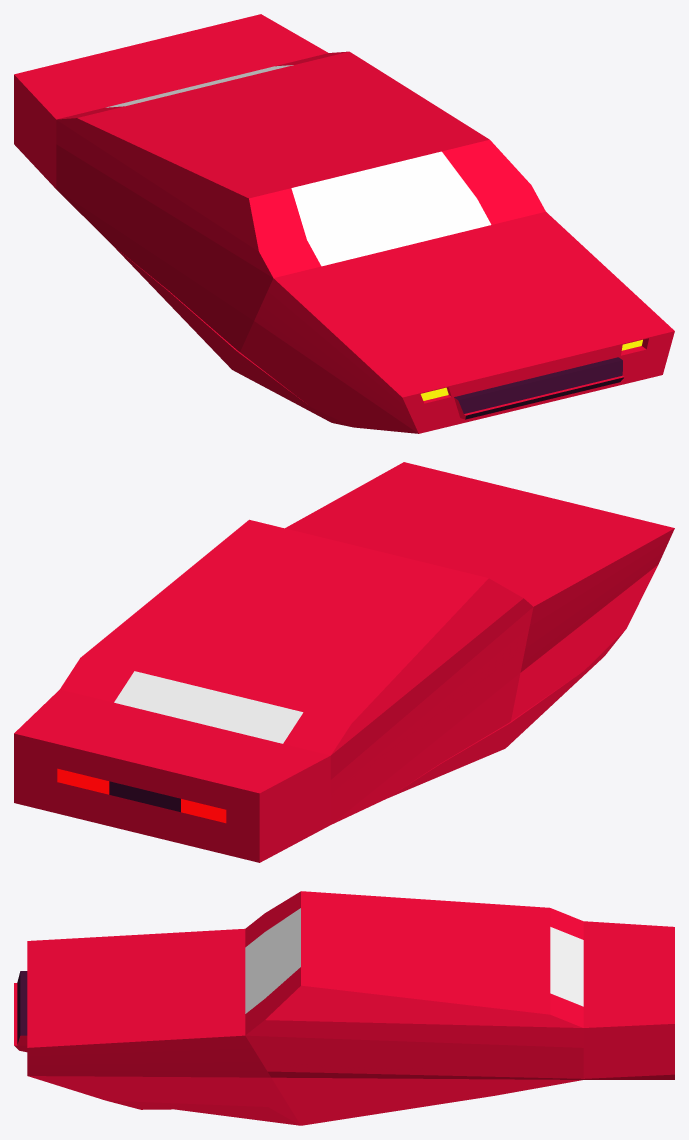
Rendered from car.glb.
3 renders of one model, top to bottom at view 1: azimuth 30°, elevation 25°; view 2: azimuth 150°, elevation 25°; view 3: azimuth 270°, elevation 25°, orthographic. The views are drawn at different scales.
Parts seen in each view (by area): view 1: Cube; view 2: Cube; view 3: Cube.
Part boxes in pixels (x1,y1,x2,y2): Cube: [14, 14, 674, 433]; Cube: [14, 462, 674, 862]; Cube: [14, 891, 674, 1125].
Bounding box in the file's own units: 3.81 × 2.18 × 9.72.
